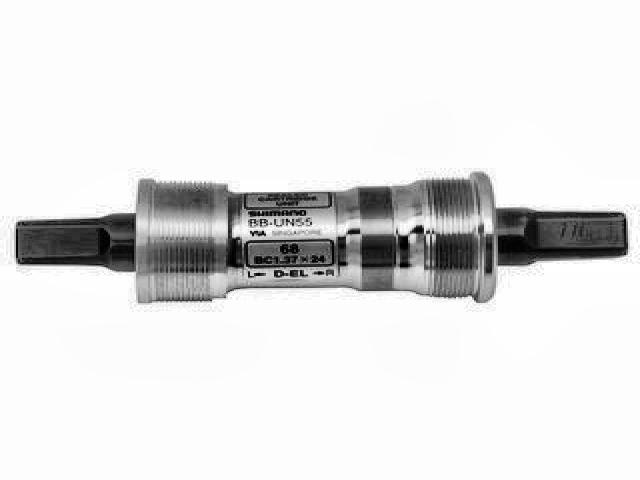bottom_bracket: (12, 169, 630, 309)
